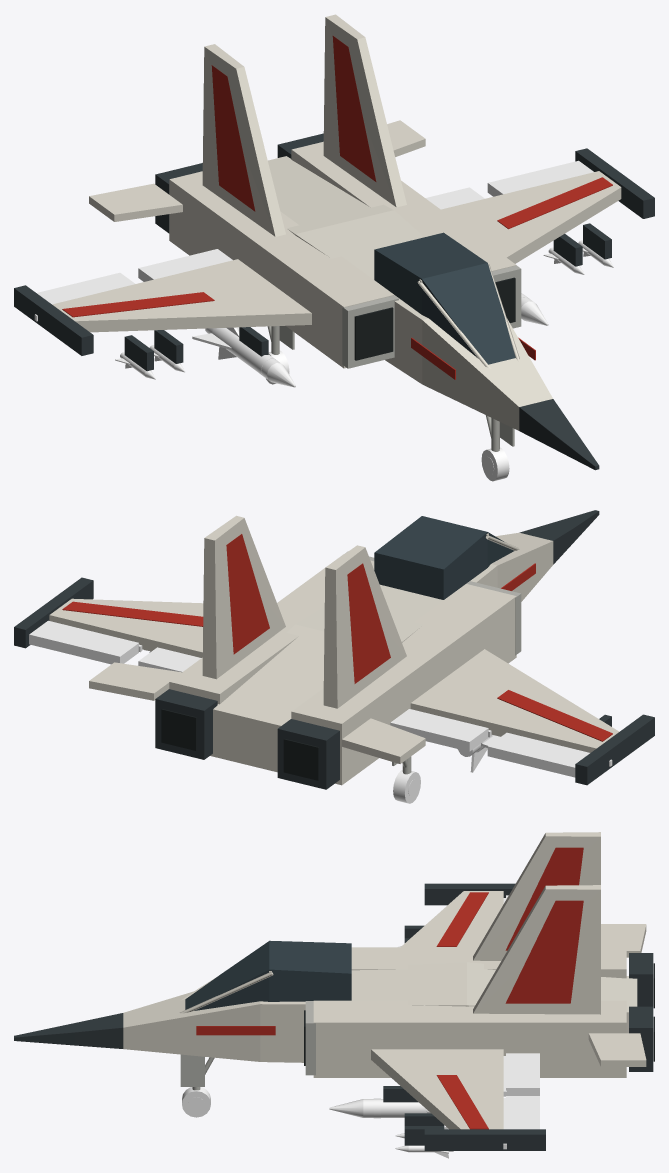
3 renders of one model, top to bottom at view 1: azimuth 30°, elevation 25°; view 2: azimuth 150°, elevation 25°; view 3: azimuth 270°, elevation 25°, orthographic. The views are drawn at different scales.
Visible parts, largest first — view 1: jet-b-fleet-armor, jet-b-fleet-machine, jet-b-fleet-glass, jet-b-fleet-red, jet-b-fleet-rubber, elevator-left-fleet-armor, jet-b-fleet-edge, store-left-large-painted, aileron-right-painted, flap-left-painted, aileron-left-painted, elevator-right-fleet-armor (+2 smaller); view 2: jet-b-fleet-armor, jet-b-fleet-machine, jet-b-fleet-red, jet-b-fleet-glass, aileron-right-painted, aileron-left-painted, jet-b-fleet-rubber, flap-left-painted, elevator-left-fleet-armor, elevator-right-fleet-armor, flap-right-painted, gear-wheel-left-0-0-painted (+2 smaller); view 3: jet-b-fleet-armor, jet-b-fleet-machine, jet-b-fleet-red, jet-b-fleet-glass, elevator-right-fleet-armor, flap-right-painted, store-right-large-painted, aileron-right-painted, elevator-left-fleet-armor, landing-gear-nose-fleet-edge, jet-b-fleet-edge, gear-wheel-nose-0-0-painted.
Part boxes in pixels (x1,y1,x2,y2): jet-b-fleet-armor: (52,14,621,430); jet-b-fleet-machine: (14,133,654,470); jet-b-fleet-glass: (374,232,515,364); jet-b-fleet-red: (62,36,612,379); jet-b-fleet-rubber: (354,277,515,360); elevator-left-fleet-armor: (89,183,182,221); jet-b-fleet-edge: (342,265,521,368); store-left-large-painted: (192,327,295,387); aileron-right-painted: (487,160,593,196); flap-left-painted: (138,249,232,281); aileron-left-painted: (34,272,135,321); elevator-right-fleet-armor: (387,120,425,156); jet-b-fleet-armor: (49,515,619,785); jet-b-fleet-machine: (14,510,654,789); jet-b-fleet-red: (62,534,612,741); jet-b-fleet-glass: (374,516,514,599); aileron-right-painted: (29,620,142,664); aileron-left-painted: (487,732,612,777); jet-b-fleet-rubber: (161,709,318,780); flap-left-painted: (390,709,491,751); elevator-left-fleet-armor: (342,718,425,763); elevator-right-fleet-armor: (89,662,181,700); flap-right-painted: (138,647,201,672); gear-wheel-left-0-0-painted: (393,770,420,803); jet-b-fleet-armor: (123,832,637,1129); jet-b-fleet-machine: (14,883,653,1150); jet-b-fleet-red: (196,847,583,1129); jet-b-fleet-glass: (185,940,351,1010); elevator-right-fleet-armor: (588,1033,646,1066); flap-right-painted: (503,1053,539,1096); store-right-large-painted: (329,1098,444,1125); aileron-right-painted: (503,1096,539,1149); elevator-left-fleet-armor: (601,924,646,957); landing-gear-nose-fleet-edge: (180,1054,214,1090); jet-b-fleet-edge: (305,1001,315,1075); gear-wheel-nose-0-0-painted: (182,1087,210,1117).
Size of the model in its own units: 50.89 by 23.94 by 54.74.
